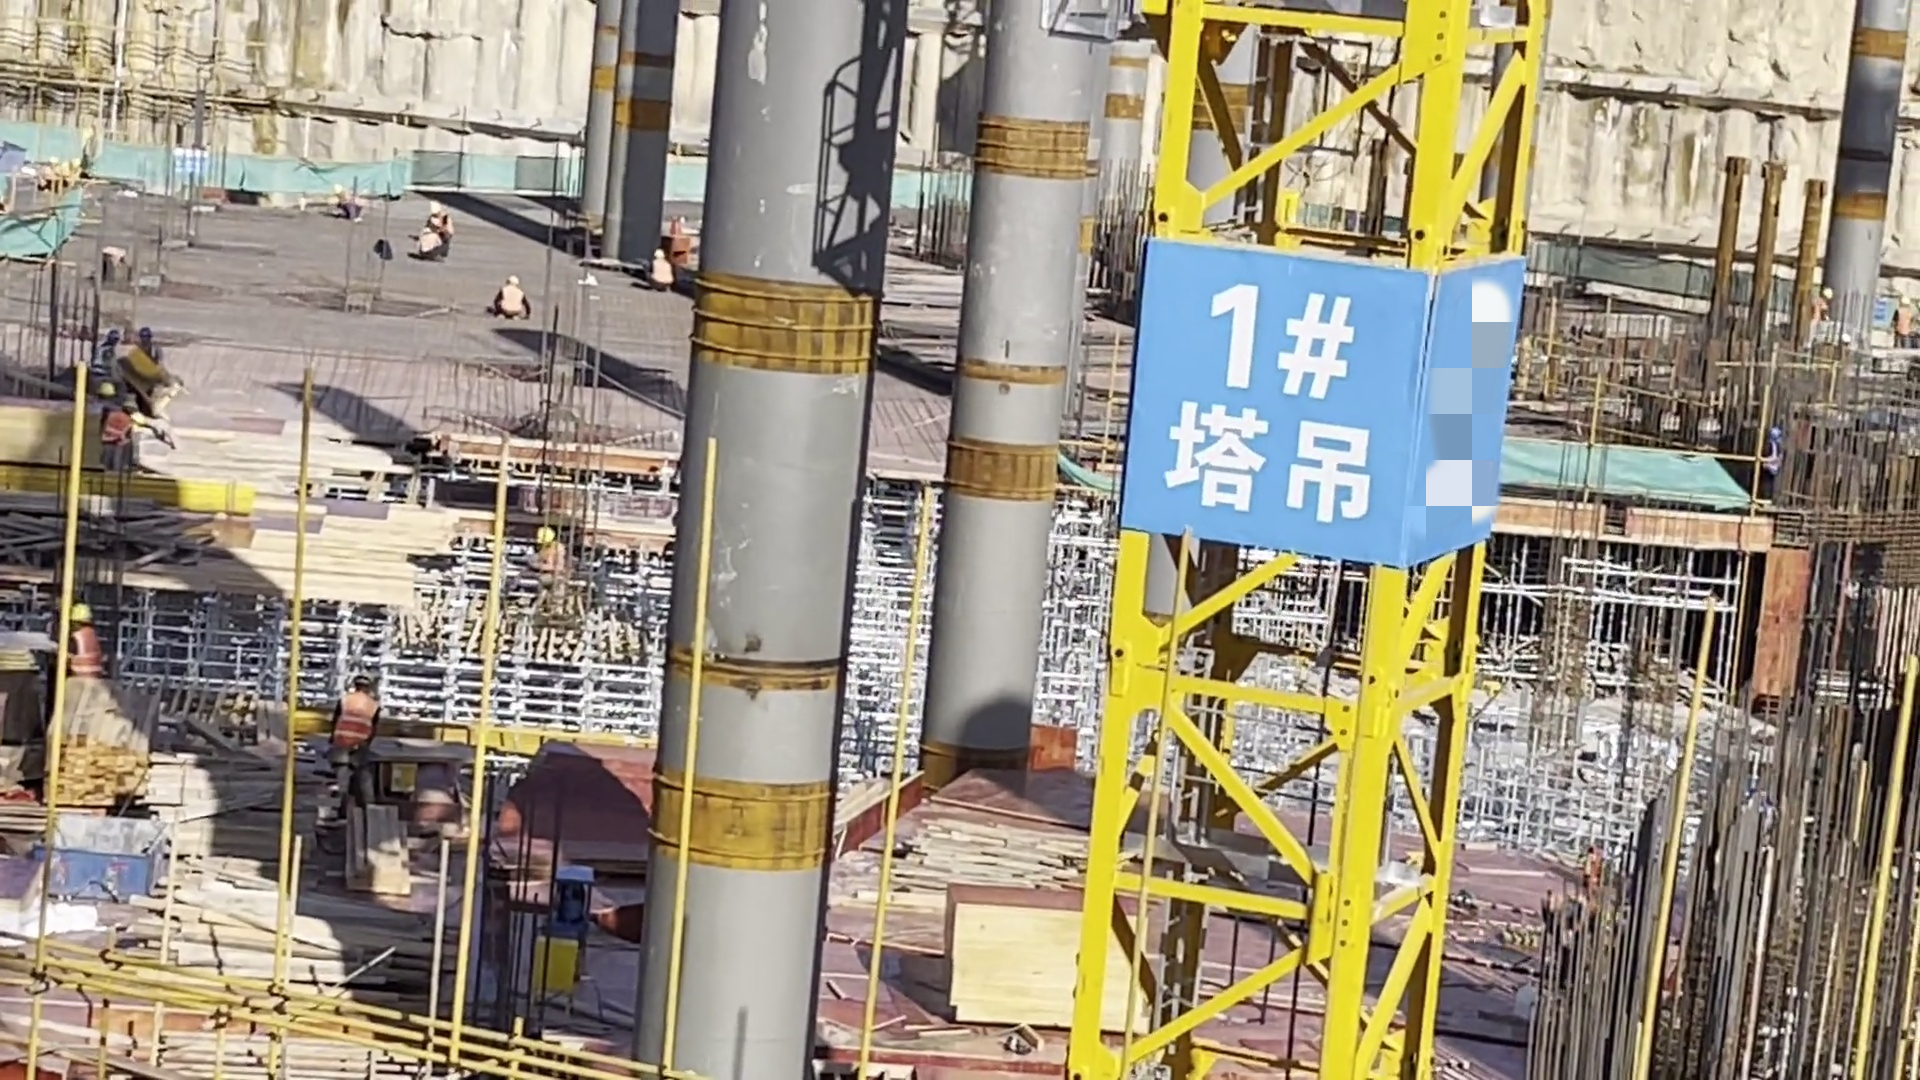board: (929, 872, 1154, 1047), (1, 622, 63, 766), (1, 399, 108, 468)
helmet: (68, 604, 95, 632), (355, 672, 380, 695), (535, 525, 560, 547), (94, 378, 114, 396), (503, 276, 522, 289), (139, 326, 154, 342), (655, 247, 668, 263), (1900, 294, 1911, 306)
hopper: (36, 820, 184, 909)
person: (326, 668, 386, 805), (533, 513, 573, 606), (63, 602, 105, 691), (102, 399, 141, 473), (493, 270, 537, 329), (1758, 421, 1786, 511), (1886, 291, 1920, 352), (647, 240, 677, 304), (137, 319, 166, 373), (429, 201, 454, 255), (413, 226, 443, 268), (105, 326, 123, 369)
slogan: (1126, 248, 1522, 541)
vest: (332, 693, 382, 760), (68, 627, 106, 679), (103, 410, 136, 449), (498, 287, 525, 319)
wood: (145, 872, 459, 998), (48, 682, 167, 814), (349, 792, 420, 906)
